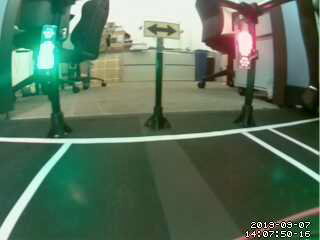Left_Right_sign: (144, 20, 180, 40)
Traffic_light_green: (42, 24, 53, 68)
Traffic_light_red: (235, 24, 254, 64)
